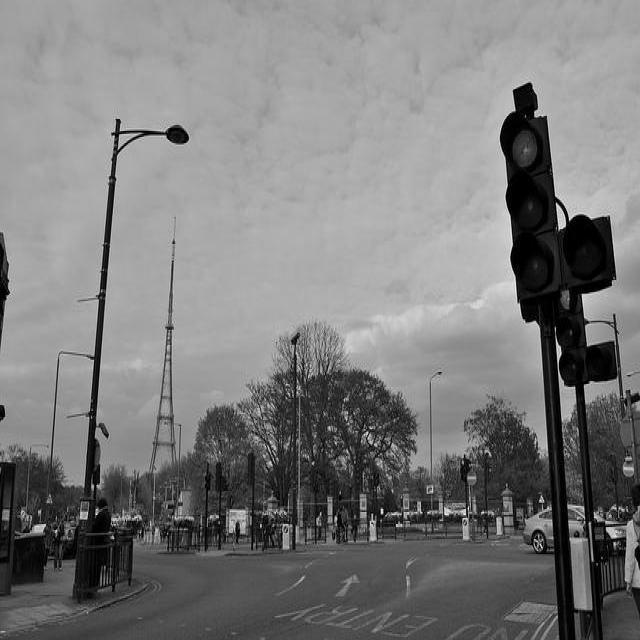vehicle: (523, 504, 627, 554), (30, 524, 58, 537)
